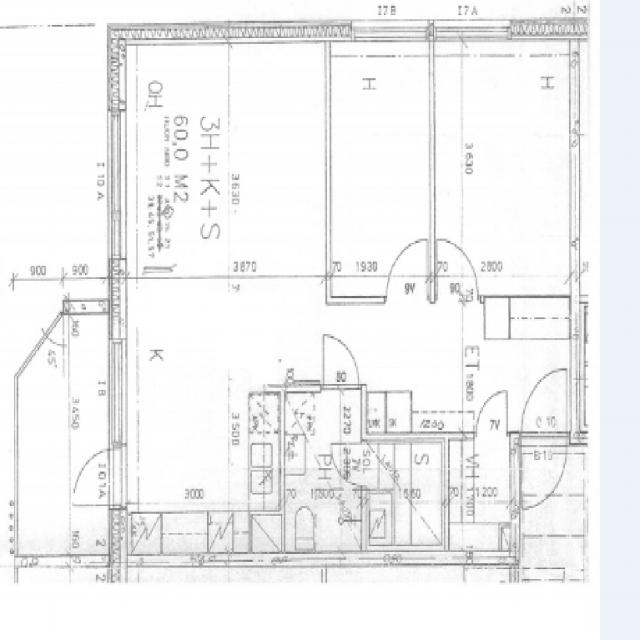door: (522, 432, 567, 512), (522, 369, 567, 448), (67, 450, 126, 504), (386, 240, 427, 304), (437, 240, 478, 304), (323, 338, 358, 393), (330, 444, 366, 486), (477, 391, 507, 440)
